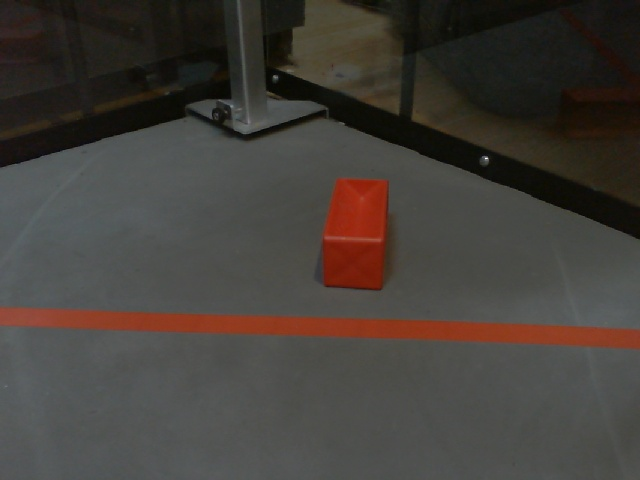RedSample: (320, 174, 391, 293)
